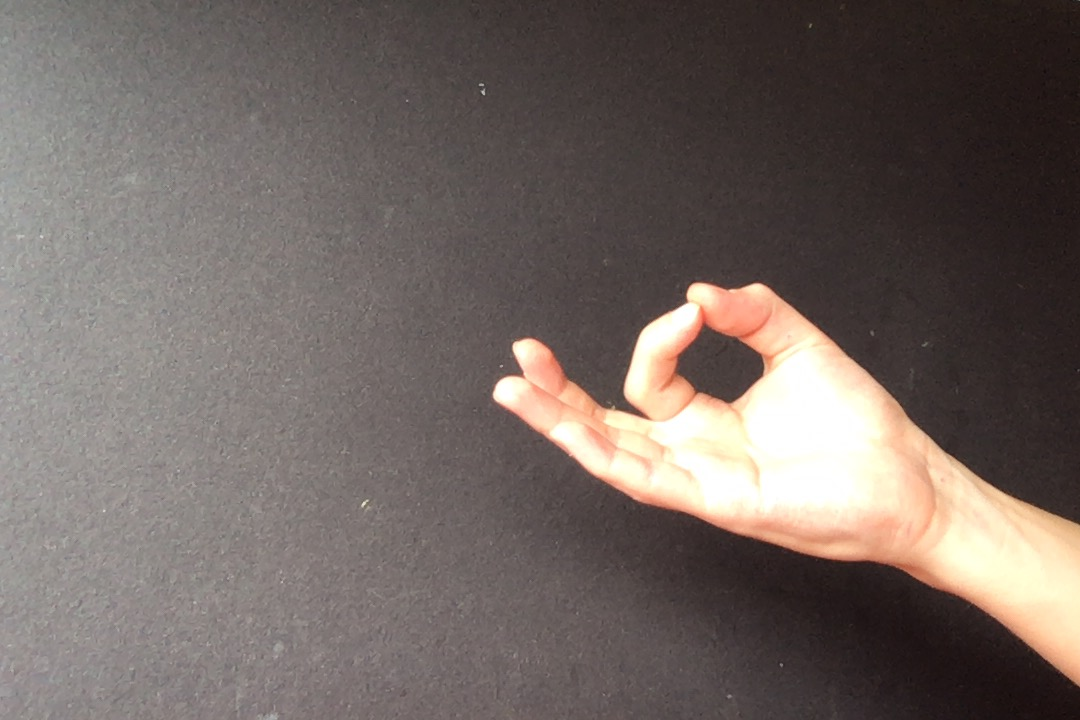oksign: (486, 274, 934, 580)
